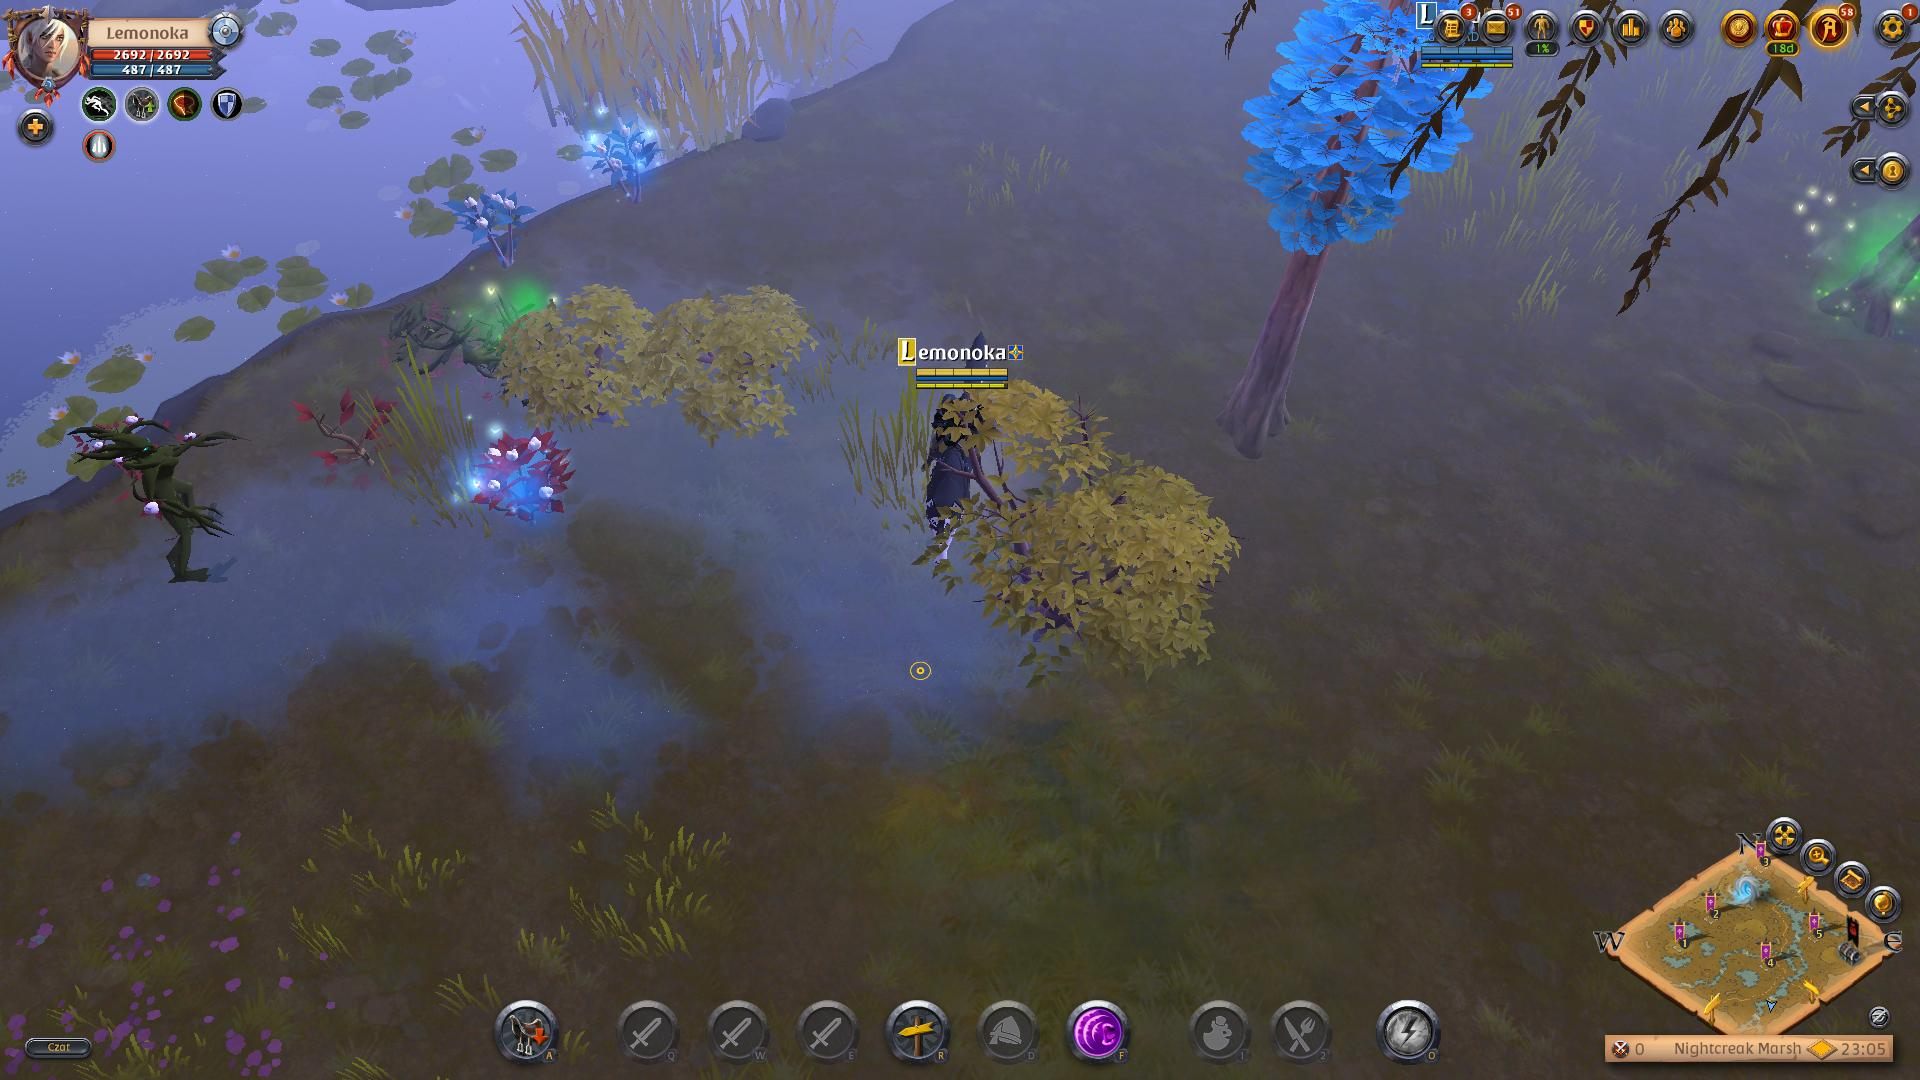fiber tier 4: (448, 185, 538, 266), (588, 116, 662, 210)
fiber tier 5: (467, 425, 583, 524)
